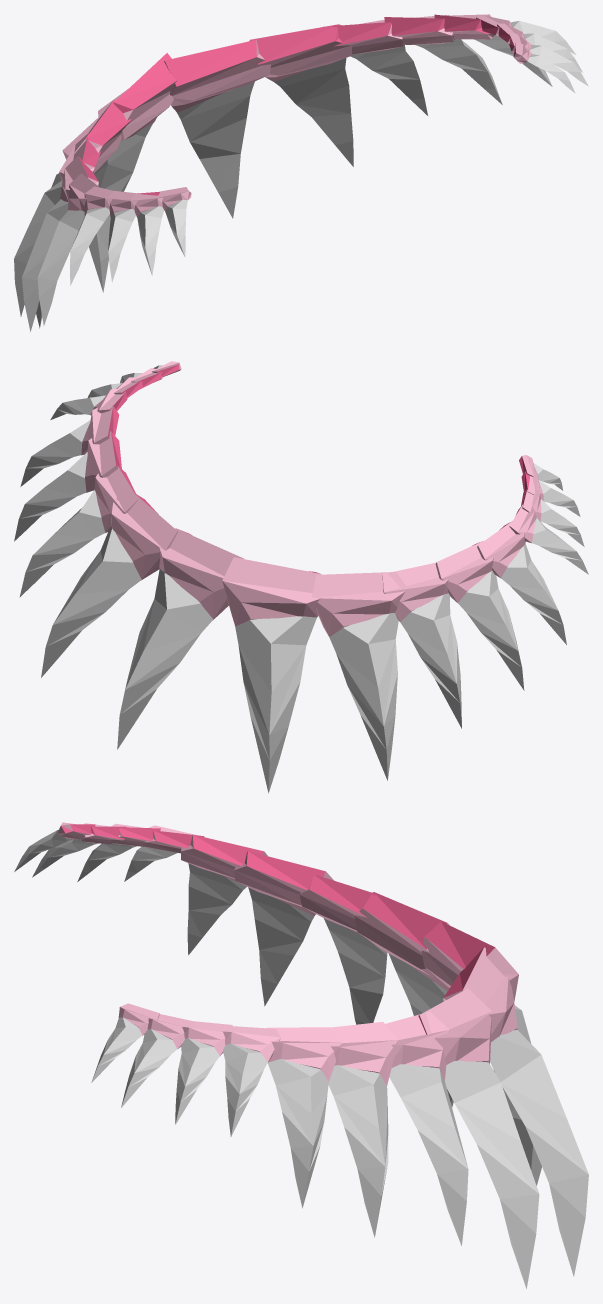
The model's file is Teeth Necklace 3.obj.
The picture shows the model from 3 angles, top to bottom: view 1: azimuth 30°, elevation 25°; view 2: azimuth 150°, elevation 25°; view 3: azimuth 270°, elevation 25°; orthographic projection. The views are drawn at different scales.
Parts seen in each view (by area): view 1: group775173148, group2062884796, group1830049063, group126289314, group1035787740, group1688784022, group530824527, group348429536, group998101702, group46180860, group1097471629, group1151164973 (+19 smaller); view 2: group1688784022, group775173148, group2041456493, group1830049063, group1035787740, group46180860, group1513417120, group2062884796, group126289314, group998101702, group348429536, group530824527 (+12 smaller); view 3: group775173148, group1830049063, group348429536, group1097471629, group1021984469, group46180860, group998101702, group126289314, group1513417120, group1035787740, group2073799731, group2062884796 (+23 smaller).
Part boxes in pixels (x1,y1,x2,y2): group775173148: [177, 81, 254, 218]; group2062884796: [164, 40, 270, 112]; group1830049063: [274, 58, 353, 166]; group126289314: [249, 24, 351, 81]; group1035787740: [98, 53, 178, 140]; group1688784022: [89, 123, 152, 292]; group530824527: [37, 210, 84, 325]; group348429536: [350, 44, 427, 115]; group998101702: [22, 199, 68, 332]; group46180860: [62, 99, 131, 173]; group1097471629: [416, 39, 502, 104]; group1151164973: [323, 19, 403, 55]; group1688784022: [235, 616, 316, 793]; group775173148: [117, 569, 213, 749]; group2041456493: [329, 613, 398, 780]; group1830049063: [41, 527, 141, 677]; group1035787740: [222, 557, 321, 626]; group46180860: [312, 572, 406, 636]; group1513417120: [400, 593, 461, 728]; group2062884796: [159, 528, 243, 619]; group126289314: [111, 491, 177, 580]; group998101702: [458, 570, 524, 690]; group348429536: [19, 490, 105, 597]; group530824527: [501, 543, 566, 644]; group775173148: [490, 1029, 588, 1276]; group1830049063: [445, 1060, 539, 1288]; group348429536: [389, 1064, 468, 1245]; group1097471629: [328, 1065, 388, 1237]; group1021984469: [267, 1059, 328, 1208]; group46180860: [354, 892, 449, 990]; group998101702: [248, 887, 314, 1006]; group126289314: [418, 988, 491, 1064]; group1513417120: [324, 918, 387, 1024]; group1035787740: [421, 921, 518, 1001]; group2073799731: [234, 851, 334, 915]; group2062884796: [443, 947, 517, 1041].
Size of the model in its own units: 1.57 by 0.7905 by 1.11.
